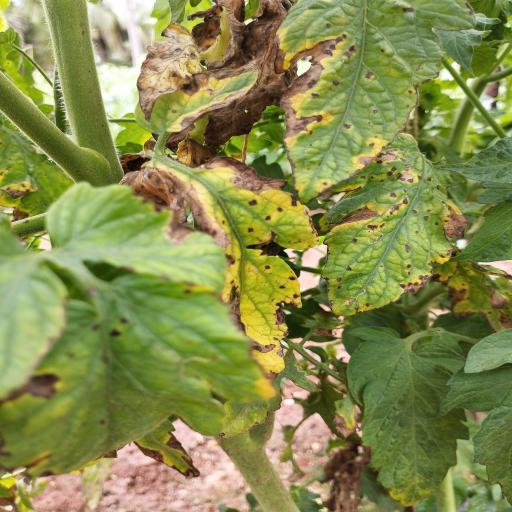Early Blight: (0, 270, 275, 482), (146, 156, 321, 385), (269, 1, 446, 209), (313, 133, 472, 321), (146, 50, 274, 134)
